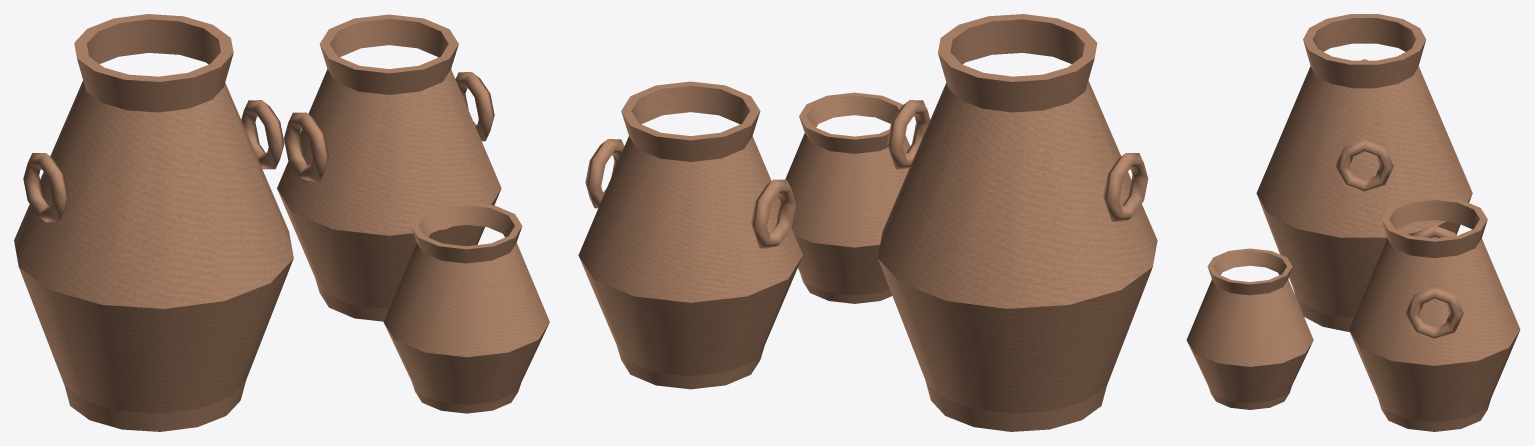
The model's file is greek-island-village-and-harbour-amphora-jar-set-3c84215e__37092.glb.
3 views of the same model, side by side, from view 1: azimuth 30°, elevation 25°; view 2: azimuth 150°, elevation 25°; view 3: azimuth 270°, elevation 25° (orthographic). The views are drawn at different scales.
Visible parts, largest first — view 1: amphora-jar-set; view 2: amphora-jar-set; view 3: amphora-jar-set.
Boxes of the visible parts, bbox=[...] form: amphora-jar-set: bbox=[14, 14, 549, 431]; amphora-jar-set: bbox=[578, 14, 1157, 431]; amphora-jar-set: bbox=[1186, 14, 1520, 431].
Size of the model in its own units: 1.38 by 0.92 by 1.05.
1 material, 1 textured.
